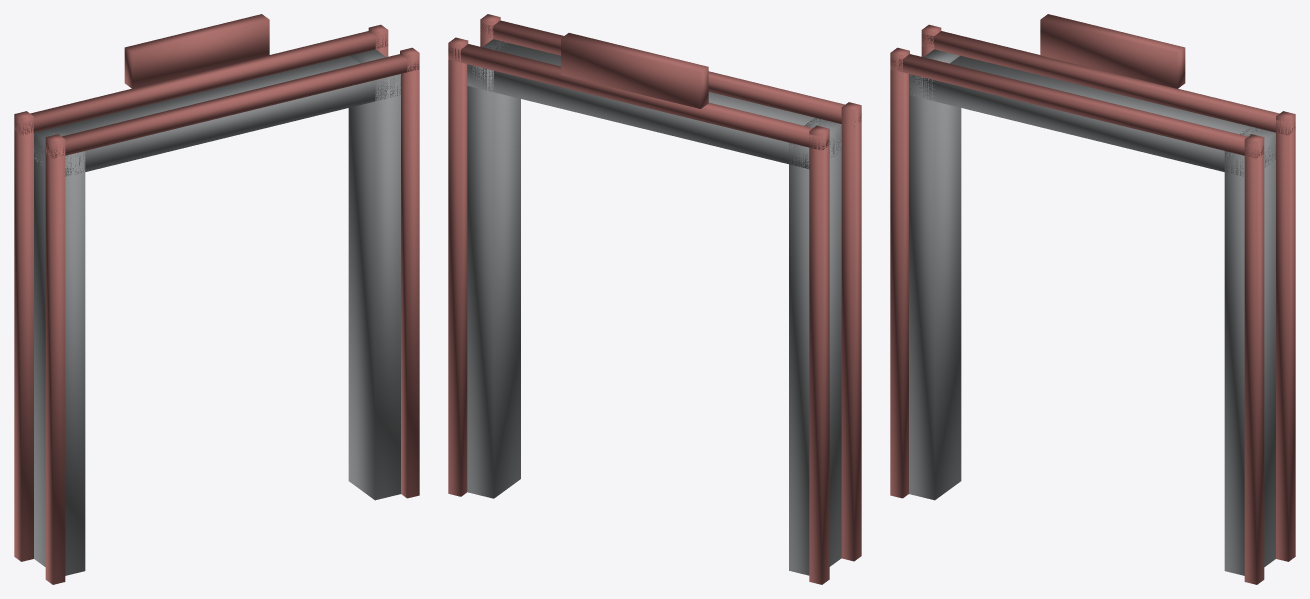
Rendered from doorway_emergency_exit_w152_h200_d24.glb.
3 views of the same model, side by side, from view 1: azimuth 30°, elevation 25°; view 2: azimuth 150°, elevation 25°; view 3: azimuth 330°, elevation 25° (orthographic).
Visible parts, largest first — view 1: world; view 2: world; view 3: world.
Boxes of the visible parts, left/top/right/bottom form: world: left=14, top=14, right=419, bottom=584; world: left=448, top=14, right=861, bottom=584; world: left=890, top=14, right=1295, bottom=584.
Size of the model in its own units: 1.92 by 2.4 by 0.3908.
